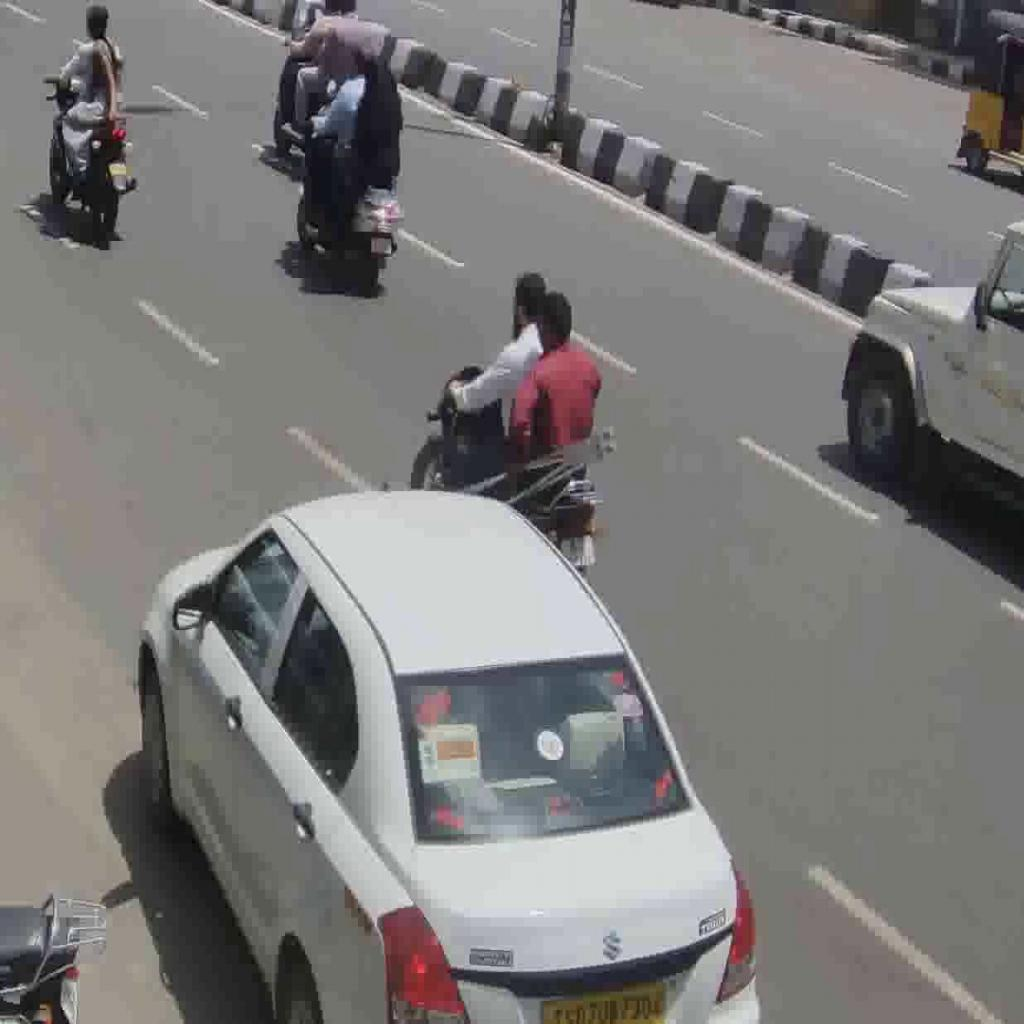bike: (411, 365, 606, 591), (295, 89, 402, 290), (44, 60, 138, 235)
lisc: (560, 534, 597, 568), (370, 235, 392, 256)
no_helmet: (532, 285, 574, 358), (508, 269, 549, 340), (365, 52, 394, 87), (85, 5, 111, 40), (351, 43, 377, 78), (86, 8, 108, 40)
rider: (470, 286, 601, 502), (445, 268, 554, 485), (325, 52, 403, 231), (307, 43, 373, 235), (62, 8, 120, 187), (57, 5, 109, 164)
